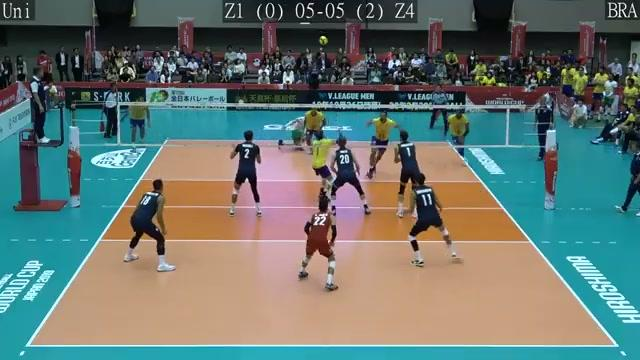ball: (319, 37, 327, 46)
